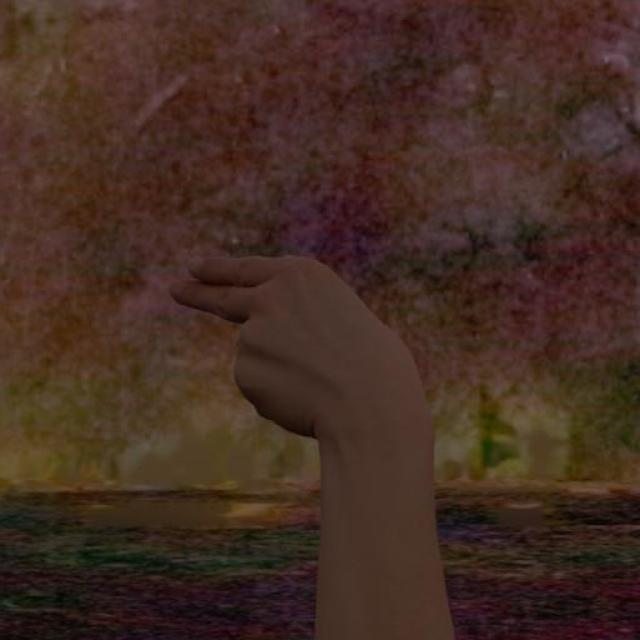H: (129, 247, 480, 444)
